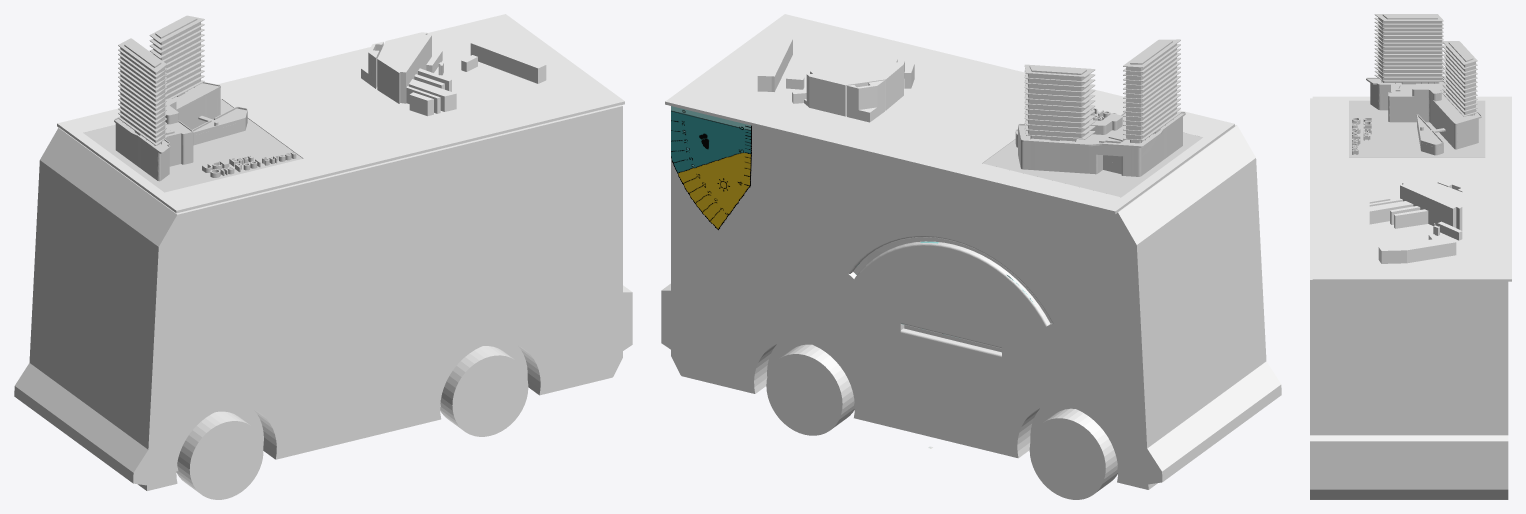
Rendered from DigitalCar.fbx.
3 views of the same model, side by side, from view 1: azimuth 30°, elevation 25°; view 2: azimuth 150°, elevation 25°; view 3: azimuth 270°, elevation 25° (orthographic). The views are drawn at different scales.
Visible parts, largest first — view 1: DigitalCar, OPS; view 2: DigitalCar, OPS; view 3: DigitalCar, OPS.
Part boxes in pixels (<box>): DigitalCar: <box>14,14,632,499</box>; OPS: <box>83,15,302,192</box>; DigitalCar: <box>661,14,1281,499</box>; OPS: <box>982,39,1202,197</box>; DigitalCar: <box>1310,96,1511,499</box>; OPS: <box>1349,14,1485,157</box>.
Bounding box in the file's own units: 26839 × 21582 × 11258.
